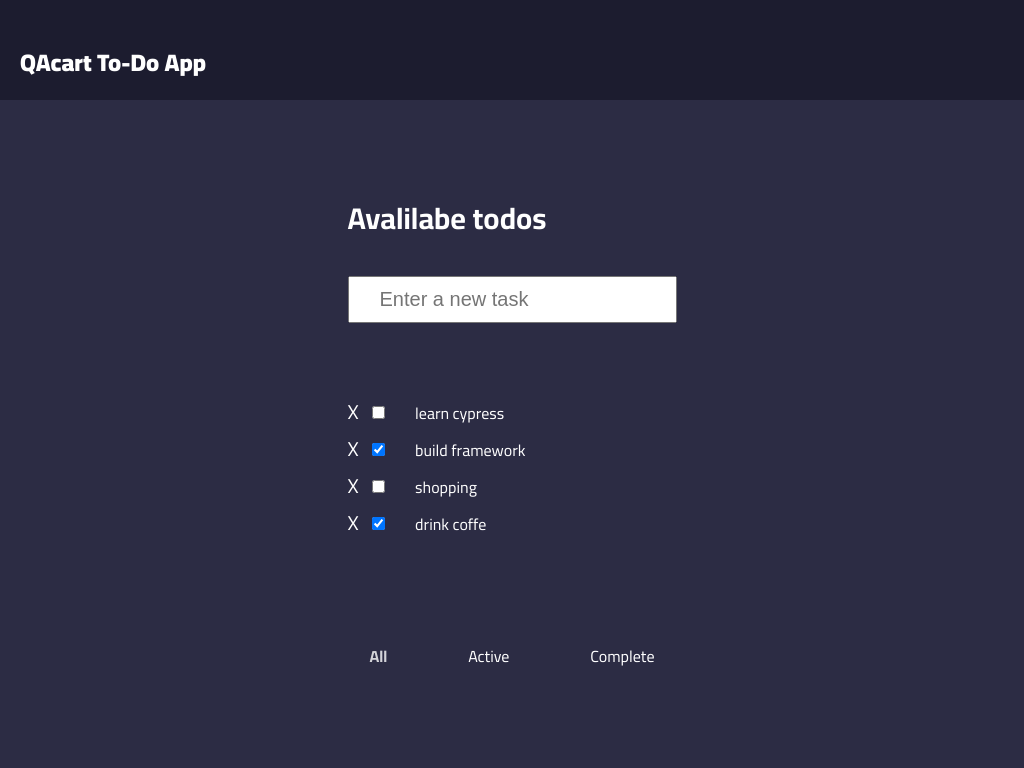
Test: filter functionality test case › should filter the completed todos correctly-2111
Step 1. Click the link "Complete" → x=622, y=656, box [588, 641, 656, 671]
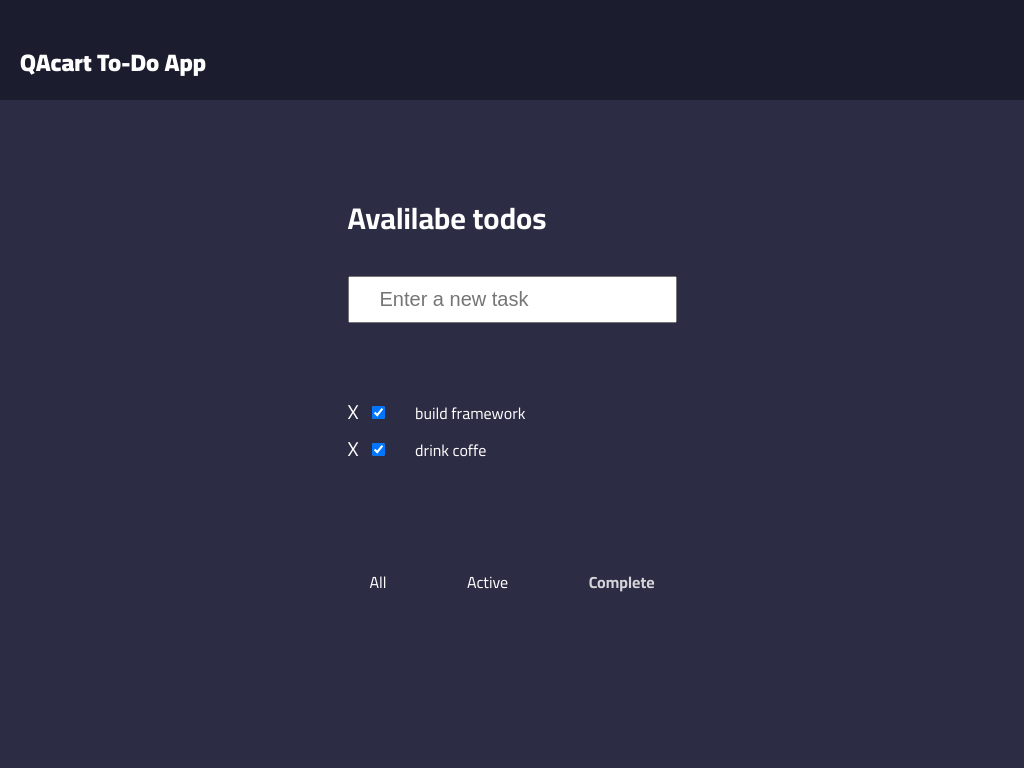
Expected: the checkbox with class "todo-checkbox" next to "drink coffe" is checked, [372, 443, 385, 456]
Expected: the checkbox with class "todo-checkbox" next to "build framework" is checked, [372, 406, 385, 419]
